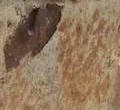Corrosion: (3, 2, 65, 74)
